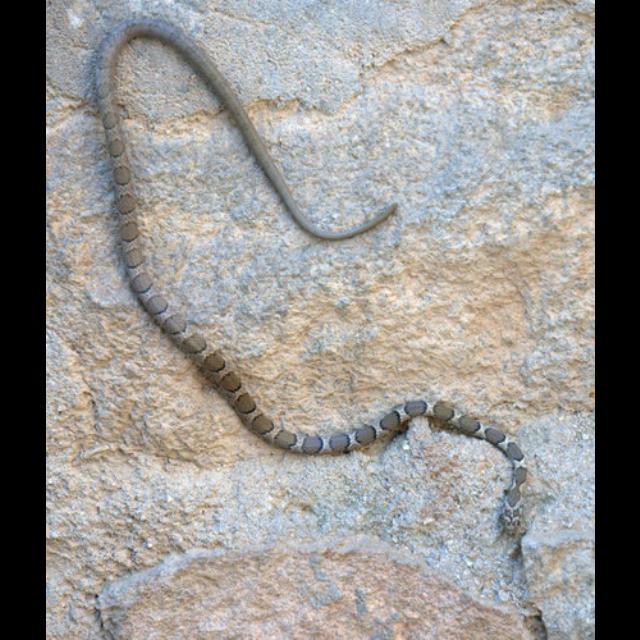snake: (88, 8, 542, 548)
